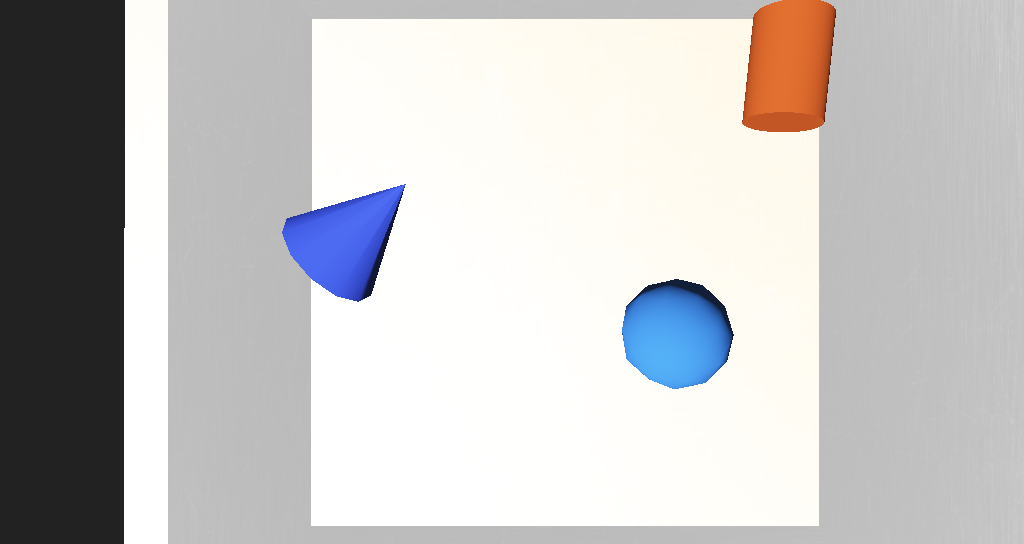cone: (610, 160, 670, 212)
cylinder: (330, 208, 438, 289)
sphere: (532, 274, 600, 317)
